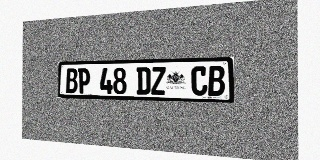4: (100, 68, 113, 94)
8: (113, 67, 126, 94)
B: (208, 66, 225, 96), (66, 68, 78, 93)
C: (191, 66, 207, 96)
D: (136, 67, 151, 95)
P: (78, 68, 90, 94)
Z: (151, 67, 166, 95)
